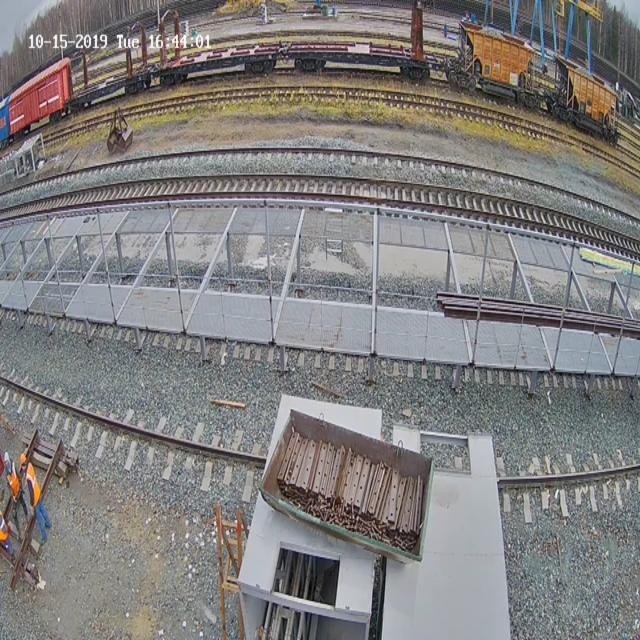Helmet: (19, 453, 26, 466)
Person: (19, 453, 52, 545), (2, 439, 30, 511), (0, 510, 16, 567)
